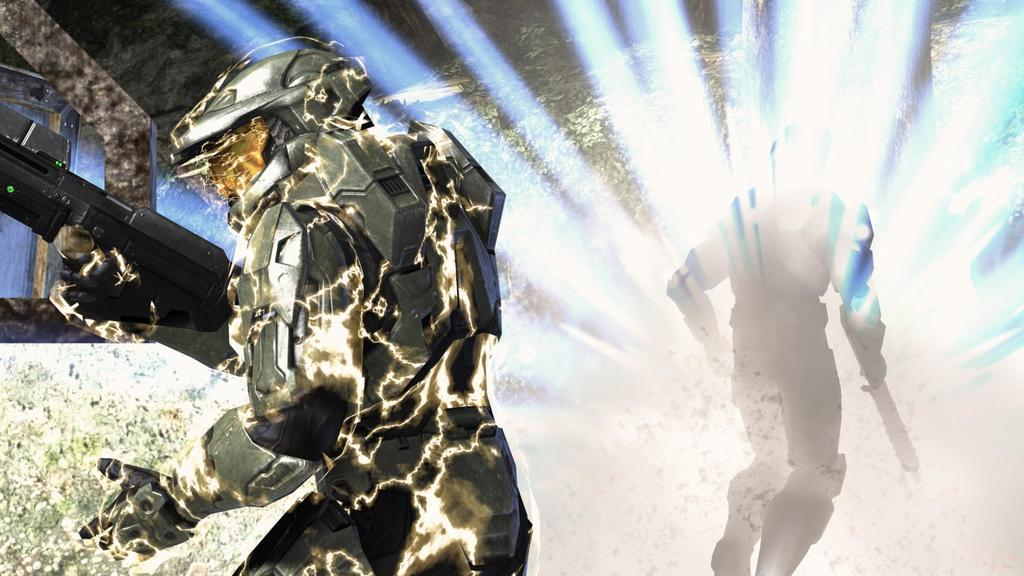Rifle: (0, 131, 236, 333), (840, 312, 923, 474)
